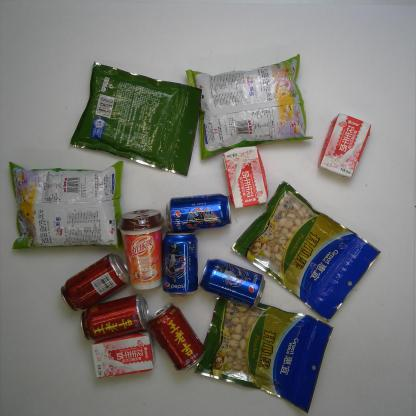Dried Fruit: (229, 174, 386, 324), (192, 289, 338, 414), (62, 60, 205, 180)
Drink: (142, 304, 210, 374), (60, 250, 129, 312), (196, 255, 266, 307), (80, 293, 152, 342), (163, 189, 235, 234), (157, 231, 199, 296)
Instant Drink: (113, 203, 167, 291)
Milk: (314, 109, 376, 181), (219, 141, 275, 212), (88, 330, 156, 380)
Puffed Food: (183, 53, 320, 162), (3, 154, 128, 256)
